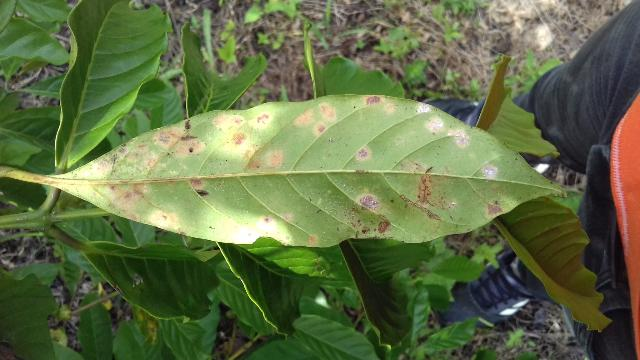rust_level_3: (50, 96, 566, 243)
